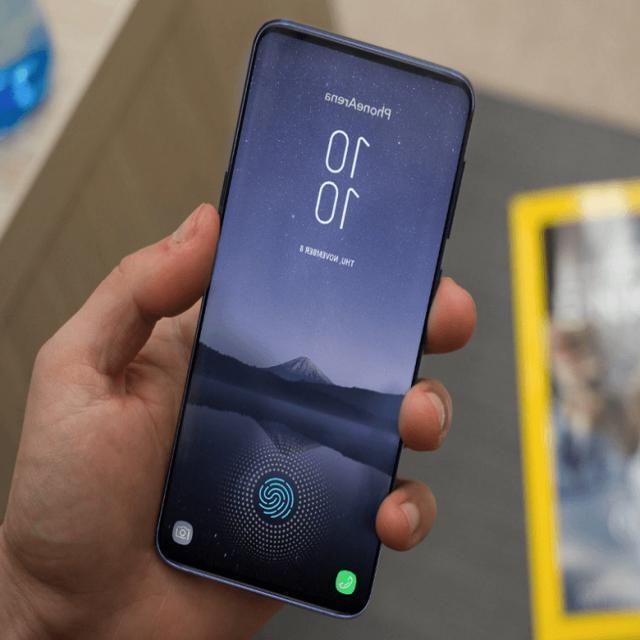mobile: (154, 15, 474, 622)
